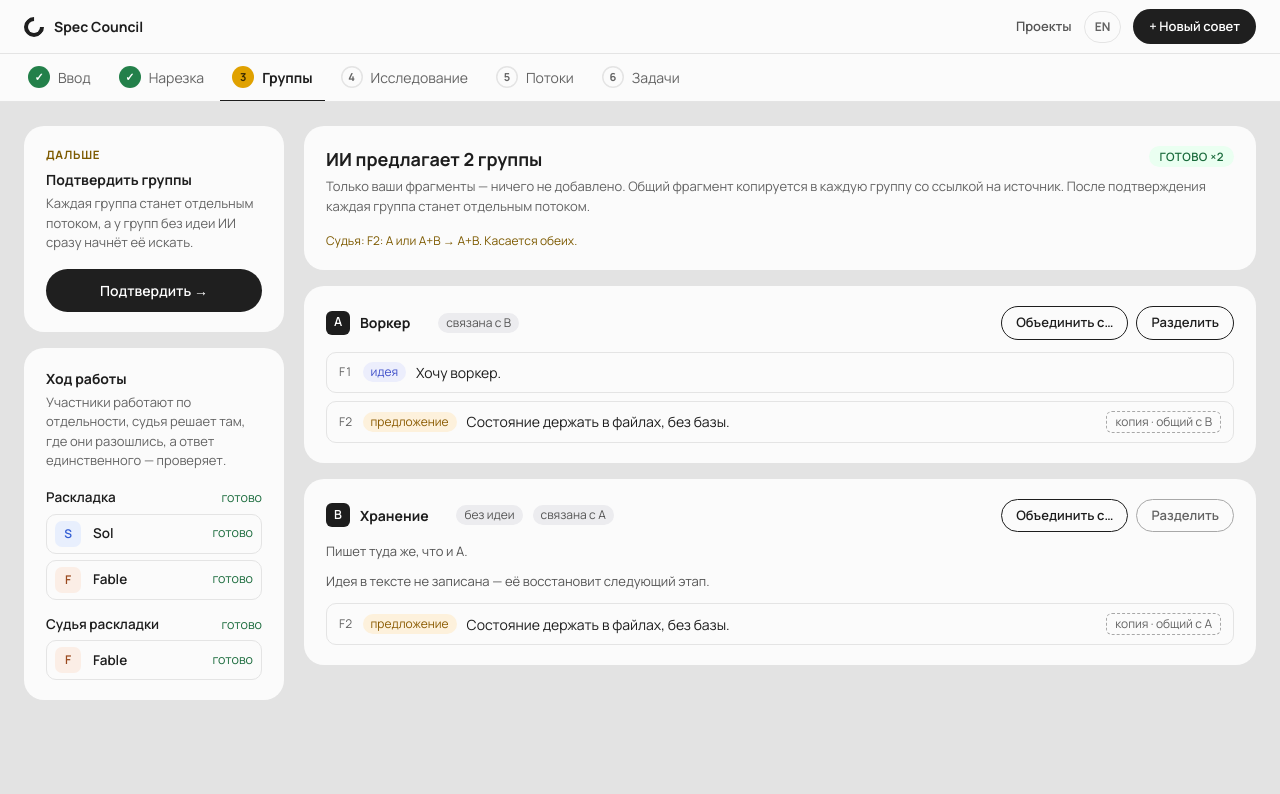
Test case: Подтверждение групп и потоки › «Подтвердить»: группы становятся потоками, а идеи групп утверждают здесь же
Click the button "Подтвердить →": point(154, 290) top-left (46, 269), bottom-right (262, 312)
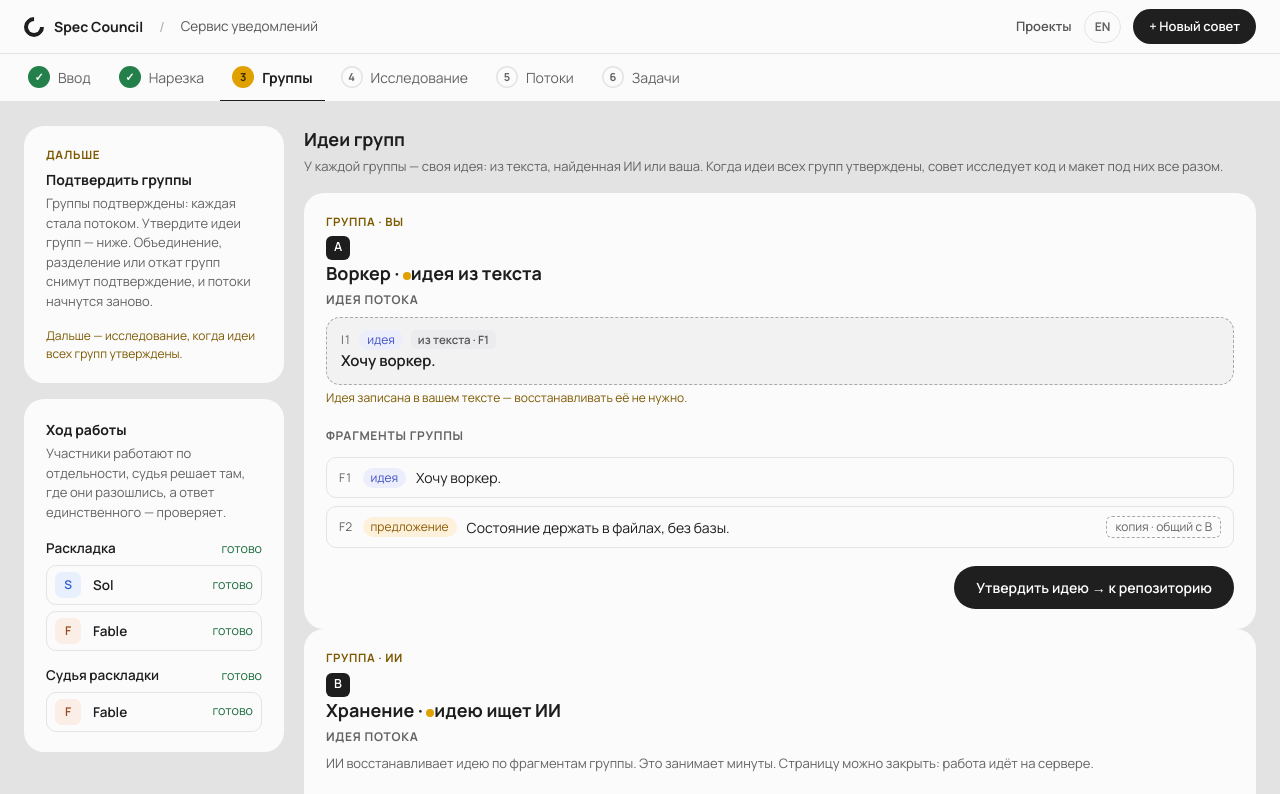
Check: the heading "Идеи групп" is shown, box top-left (304, 127), bottom-right (405, 151)
Check: the text "Идея записана в вашем тексте — восстанавливать её не нужно." is shown, box top-left (326, 389), bottom-right (687, 406)
Check: the text "ИИ восстанавливает идею по фрагментам группы." is shown, box top-left (326, 754), bottom-right (636, 772)
